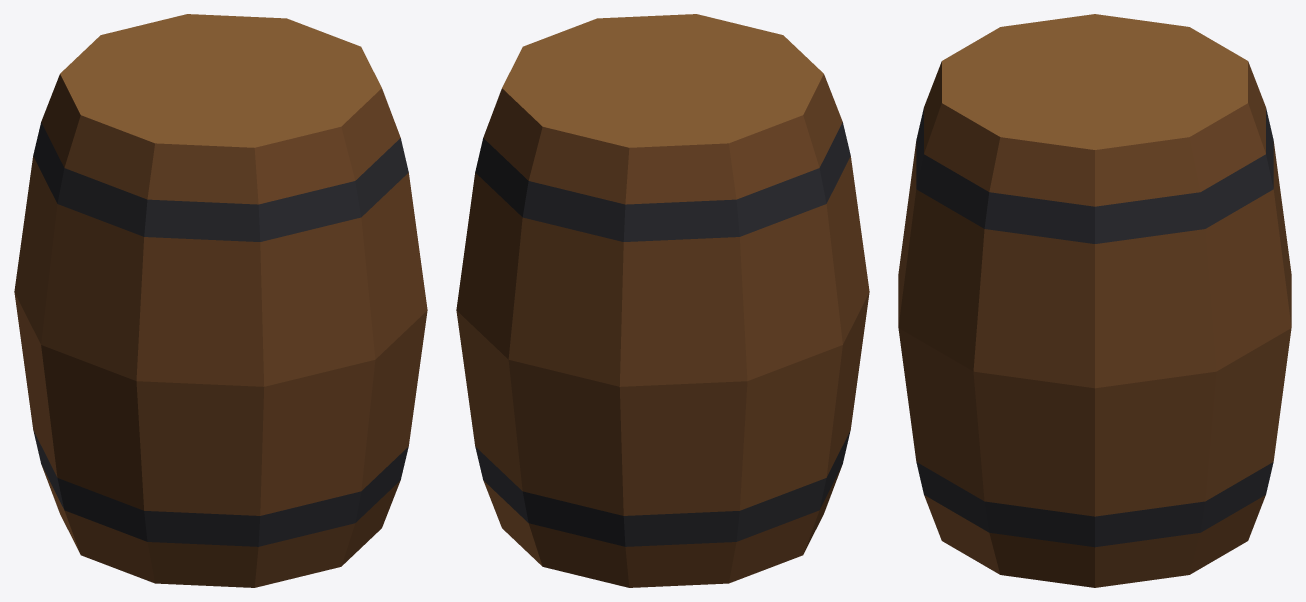
Rendered from prop_barrel.glb.
The picture shows the model from 3 angles, left to right: view 1: azimuth 30°, elevation 25°; view 2: azimuth 150°, elevation 25°; view 3: azimuth 270°, elevation 25°; orthographic projection.
Parts seen in each view (by area): view 1: Prop_Barrel; view 2: Prop_Barrel; view 3: Prop_Barrel.
Boxes of the visible parts, <box> form: Prop_Barrel: <box>14,14,427,587</box>; Prop_Barrel: <box>456,14,869,587</box>; Prop_Barrel: <box>898,14,1291,587</box>.
Bounding box in the file's own units: 0.77 × 0.9 × 0.7323.
1 material, 1 textured.
